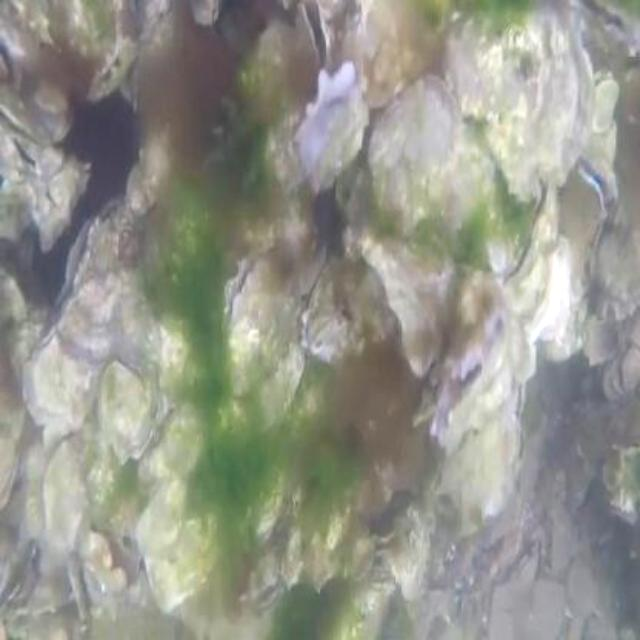Oyster-Closed: (455, 0, 594, 198), (371, 79, 497, 246), (361, 230, 453, 372), (436, 382, 519, 515), (22, 326, 90, 442), (301, 252, 366, 371), (147, 513, 224, 607), (101, 354, 156, 466), (140, 403, 204, 485), (0, 80, 75, 143), (44, 446, 88, 553), (137, 473, 189, 559), (0, 380, 23, 503), (589, 70, 619, 133), (612, 489, 635, 525), (515, 420, 526, 473), (625, 345, 638, 388), (516, 379, 529, 421)
Oyster-Open: (434, 310, 513, 462), (224, 248, 297, 392), (56, 200, 140, 321), (294, 62, 371, 189), (501, 167, 558, 315), (559, 154, 617, 254), (87, 36, 139, 105), (576, 0, 638, 55), (297, 0, 331, 69), (15, 135, 68, 176), (248, 549, 284, 609), (0, 36, 15, 89)
